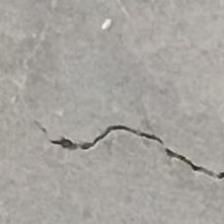Crack: (3, 102, 224, 210)
